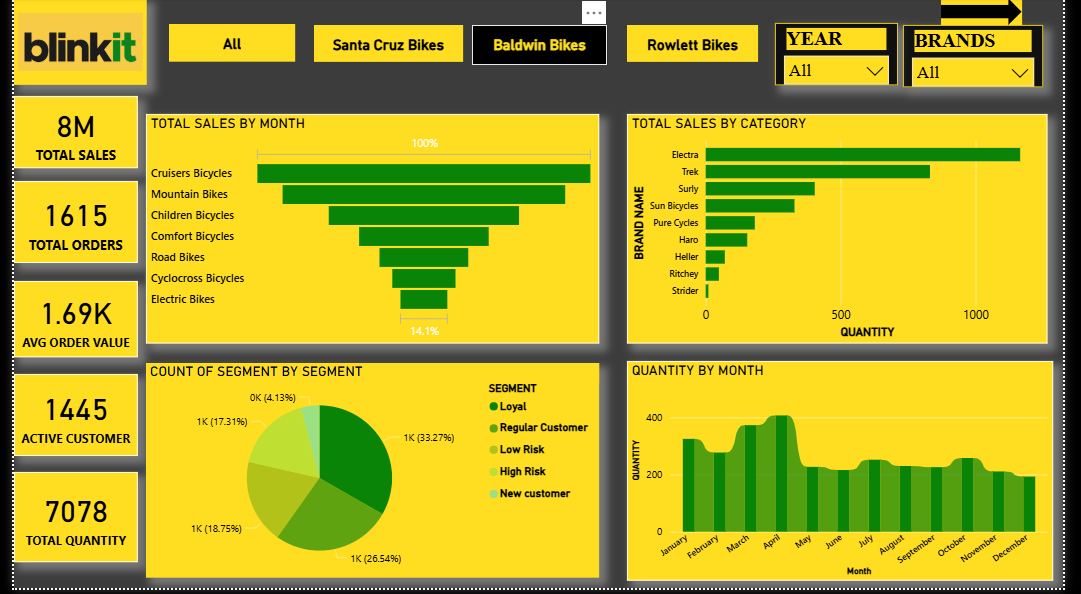

The dashboard page shown, as its layout file describes it:
{"tool":"powerbi","page":{"name":"DASHBOARD","canvas":[1280,720],"ordinal":1},"visuals":[{"type":"card","fields":{"Values":["retail brands.Active Customer"]},"box":[0,458.5,151.1,99.9],"z":0},{"type":"card","fields":{"Values":["MEASURES (2).TOTAL ORDERS"]},"box":[0,223.4,151.1,99.9],"z":1000},{"type":"card","fields":{"Values":["MEASURES (2).TOTAL SALES"]},"box":[0,119.6,151.1,88],"z":2000},{"type":"card","fields":{"Values":["MEASURES (2).AVG ORDER VALUE"]},"box":[0,345.5,151.1,93.3],"z":3000},{"type":"slicer","fields":{"Values":["retail orders.YEAR"]},"box":[928.1,31.9,148.2,74.8],"z":4000},{"type":"slicer","title":"BRAND NAME ","fields":{"Values":["retail brands.brand_name"]},"box":[1086.1,31.9,170.4,74.8],"z":5000},{"type":"image","box":[0,0,161.6,106.4],"z":6000},{"type":"card","fields":{"Values":["MEASURES (2).TOTAL QUANTITY"]},"box":[0,578.1,151.1,110.4],"z":7000},{"type":"lineChart","title":" TOTAL SALES BY MONTH","fields":{"Category":["retail orders.order_date.Variation.Date Hierarchy.Month"],"Y":["MEASURES (2).TOTAL SALES"]},"box":[170,141.7,553.3,280],"z":8000},{"type":"columnChart","title":"  TOTAL SALES BY CATEGORY","fields":{"Category":["retail categories.category_name"],"Y":["MEASURES (2).TOTAL SALES"]},"box":[748.3,141.7,513.3,280],"z":9000},{"type":"pieChart","title":"  COUNT OF SEGMENT BY SEGMENT ","fields":{"Category":["retail customer_segment.segment"],"Y":["CountNonNull(retail customer_segment.segment)"]},"box":[170,448.3,553.3,261.7],"z":10000},{"type":"waterfallChart","title":" TOTAL QUANTITY by Month","fields":{"Category":["retail orders.order_date.Variation.Date Hierarchy.Month"],"Y":["MEASURES (2).TOTAL QUANTITY"]},"box":[748.3,441.7,520,268.3],"z":11000},{"type":"actionButton","title":"Santa","box":[366.7,33.3,181.7,45],"z":13000},{"type":"actionButton","title":"Bladwin","box":[570.2,32.8,153.7,44.7],"z":14000},{"type":"actionButton","title":"Rowlett","box":[747.6,32.8,160.3,44.7],"z":15000},{"type":"actionButton","title":"All 1","box":[188.3,31.7,155,46.7],"z":16000},{"type":"shape","box":[1130.7,0,98.7,33.3],"z":32000}]}

Visuals, with their boxes in screenshot pixels (x1, y1, x2, y2), scaled from the page's 1280x720 canvas onto the 1081x594 screenshot:
card - retail brands.Active Customer: (0, 378, 128, 461)
card - MEASURES (2).TOTAL ORDERS: (0, 184, 128, 267)
card - MEASURES (2).TOTAL SALES: (0, 99, 128, 171)
card - MEASURES (2).AVG ORDER VALUE: (0, 285, 128, 362)
slicer - retail orders.YEAR: (784, 26, 909, 88)
"BRAND NAME " slicer: (917, 26, 1061, 88)
image: (0, 0, 136, 88)
card - MEASURES (2).TOTAL QUANTITY: (0, 477, 128, 568)
" TOTAL SALES BY MONTH" lineChart: (144, 117, 611, 348)
"  TOTAL SALES BY CATEGORY" columnChart: (632, 117, 1065, 348)
"  COUNT OF SEGMENT BY SEGMENT " pieChart: (144, 370, 611, 586)
" TOTAL QUANTITY by Month" waterfallChart: (632, 364, 1071, 586)
"Santa" actionButton: (310, 27, 463, 65)
"Bladwin" actionButton: (482, 27, 611, 64)
"Rowlett" actionButton: (631, 27, 767, 64)
"All 1" actionButton: (159, 26, 290, 65)
shape: (955, 0, 1038, 27)
